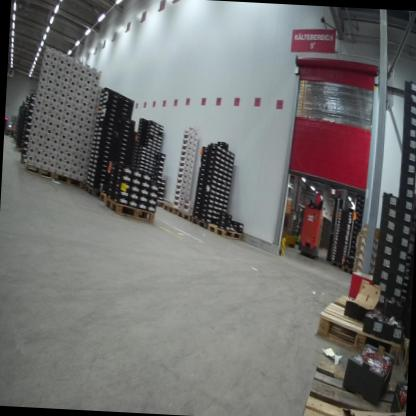pallet: (315, 297, 409, 363), (300, 357, 405, 416), (105, 184, 160, 220), (23, 156, 59, 183), (53, 166, 88, 192), (188, 213, 227, 234), (204, 221, 243, 239), (80, 176, 105, 201), (160, 199, 181, 217), (98, 186, 113, 207), (174, 205, 192, 222), (331, 254, 347, 271), (154, 197, 171, 212), (340, 264, 356, 278), (18, 155, 30, 165), (15, 146, 22, 154)
pallet_truck: (295, 180, 326, 265)
